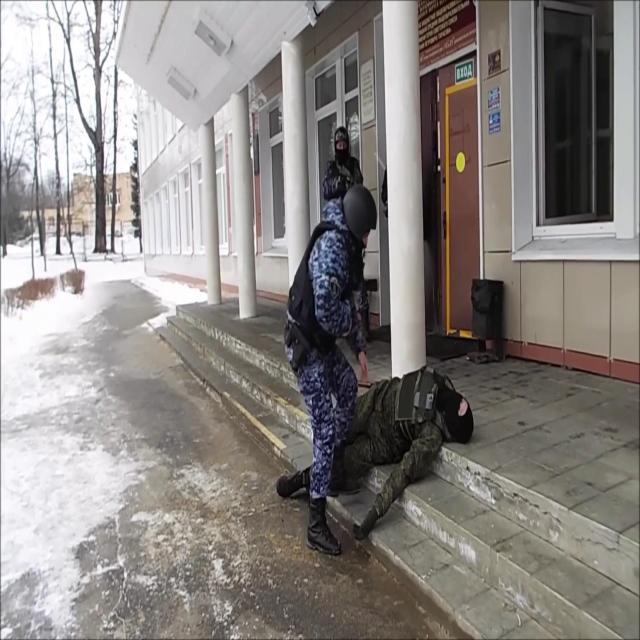pistol: (285, 323, 311, 373), (332, 156, 357, 194)
